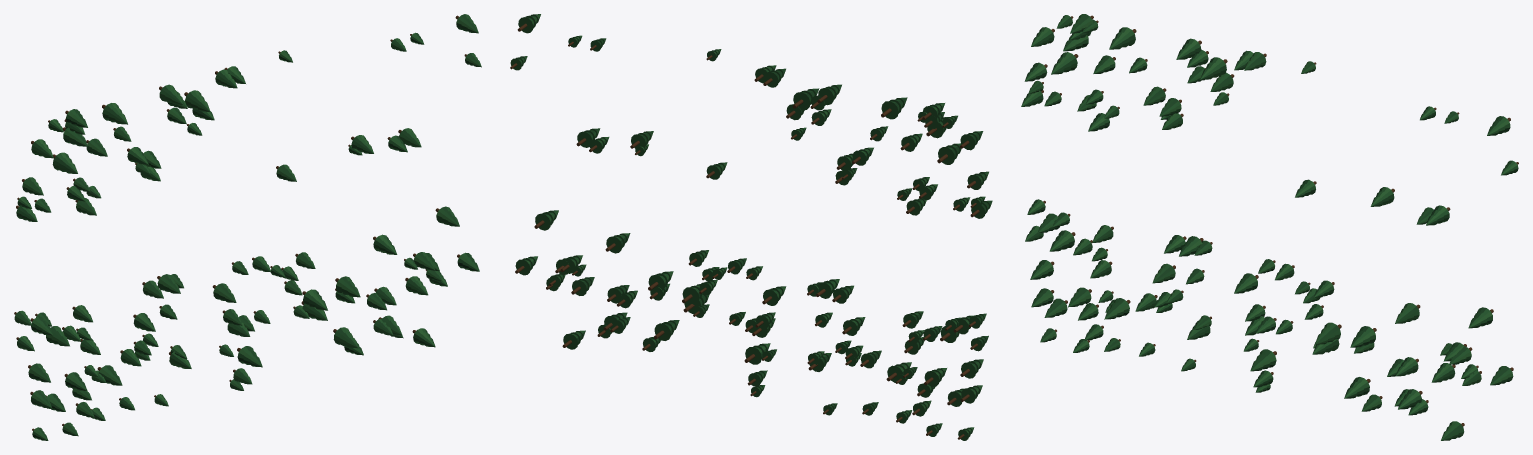
Rendered from forest_clusters.obj.
3 renders of one model, left to right at view 1: azimuth 30°, elevation 25°; view 2: azimuth 150°, elevation 25°; view 3: azimuth 330°, elevation 25°, orthographic. The views are drawn at different scales.
Visible parts, largest first — view 1: forest_clusters; view 2: forest_clusters; view 3: forest_clusters.
Part boxes in pixels (x1,y1,x2,y2): forest_clusters: (14,14,481,440); forest_clusters: (510,14,992,440); forest_clusters: (1021,14,1518,440).
Size of the model in its own units: 72.77 by 49.32 by 8.77.
